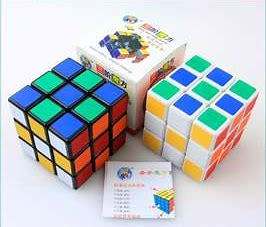cube: (8, 54, 129, 189), (142, 55, 259, 183)
